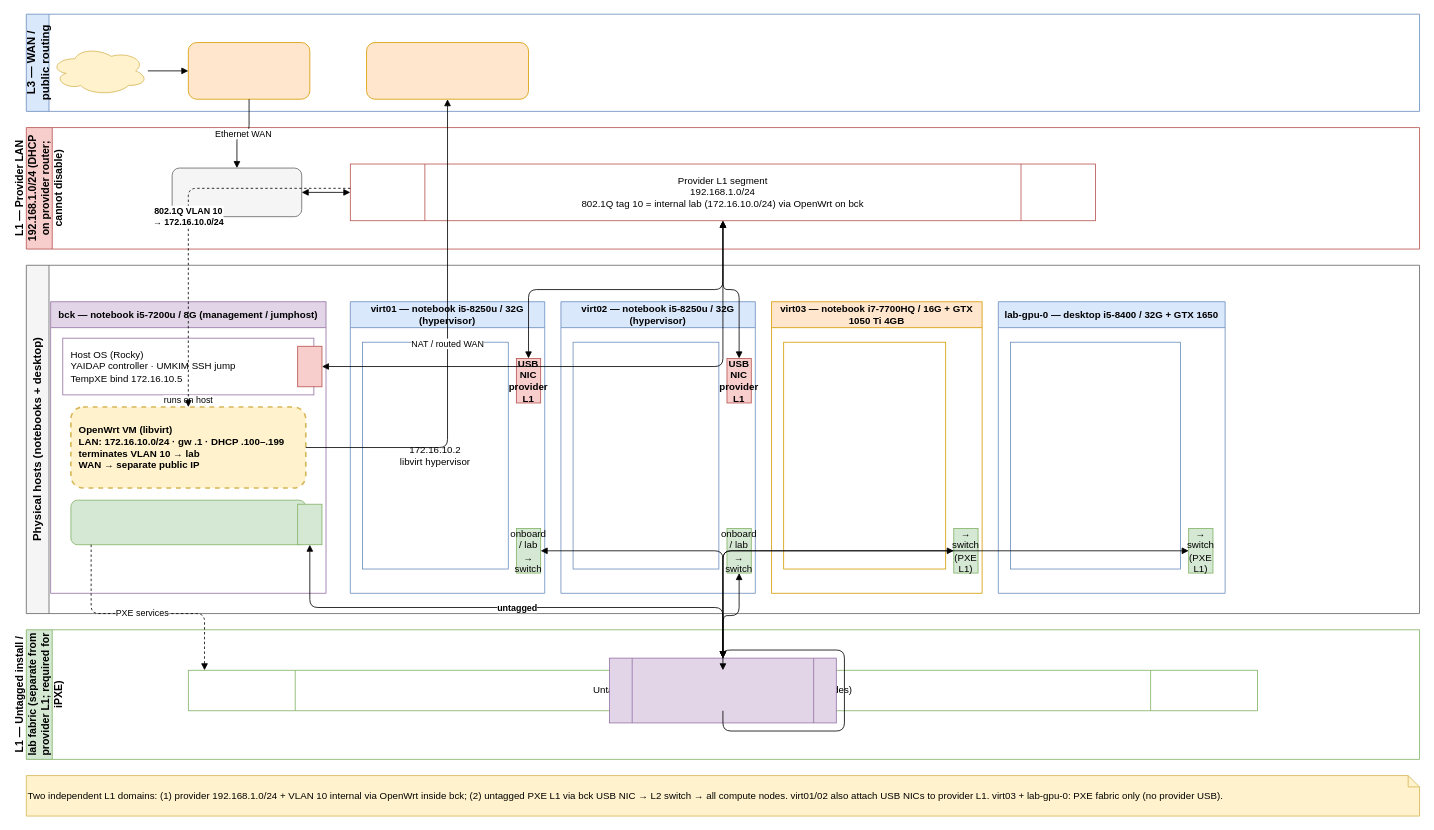
Some shapes in this 1434 by 830 pixel diagram are drawn without their labels. Here are the shapes that lost their labels. From the top down, the centre of each, then its label:
(x=99, y=70): Internet
(x=249, y=70): Provider CPE PPPoE (PT) public IP #1
(x=447, y=70): OpenWrt VM WAN public IP #2 (separate from provider)
(x=236, y=192): Provider router DHCP server
(x=309, y=366): USB NIC → provider L1
(x=645, y=455): 172.16.10.3 libvirt hypervisor
(x=864, y=455): 172.16.10.4 bare metal / cluster node NVIDIA GTX 1050 Ti
(x=1095, y=455): 172.16.10.6 (virt04) lab-gpu-0 hypervisor NVIDIA GTX 1650
(x=188, y=522): TempXE (podman on host) DHCP/TFTP/kickstart on PXE L1
(x=309, y=524): USB NIC → PXE L1
(x=722, y=690): L2 Ethernet switch (future L2+L3 managed switch not in use yet)
